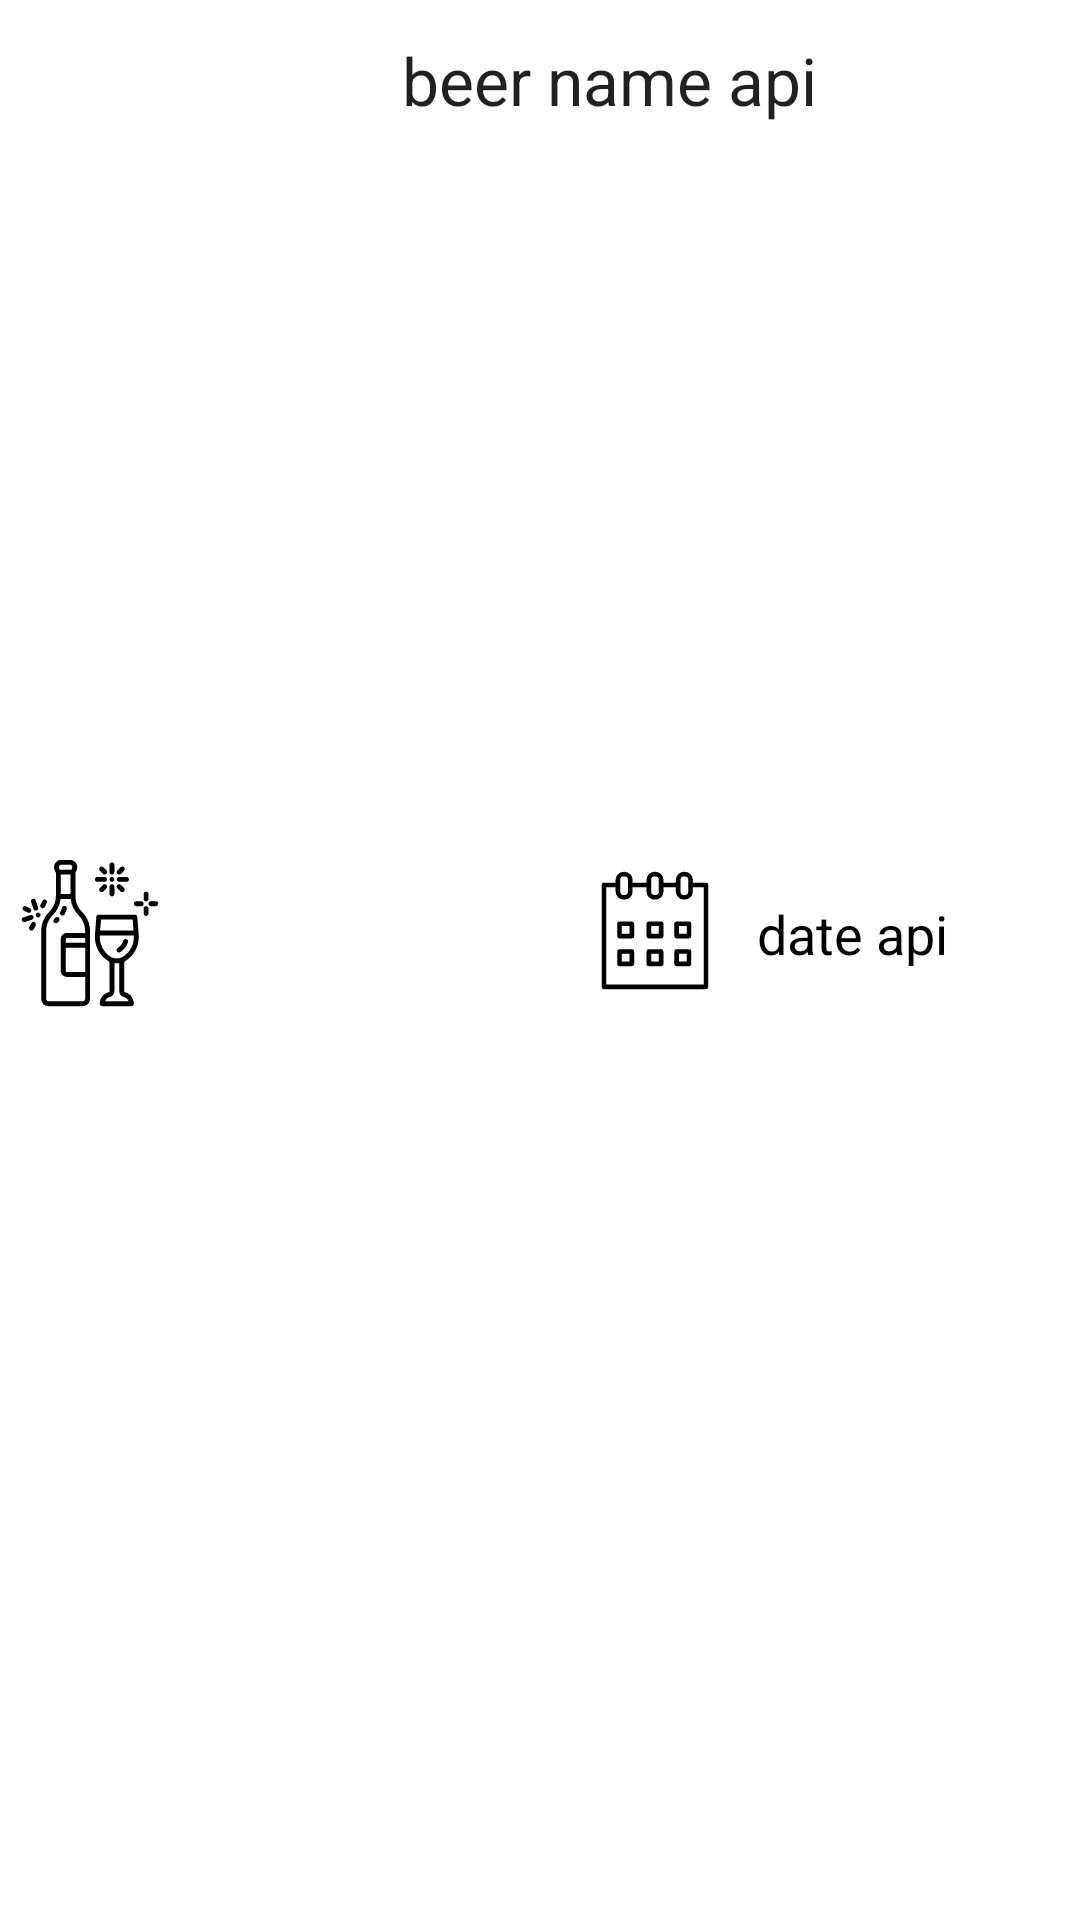

Icons on this 1080px×1920px Android screen, each with the point to tap as point (x, y):
abv detail: point (90, 933)
calendar detail: point (655, 930)
